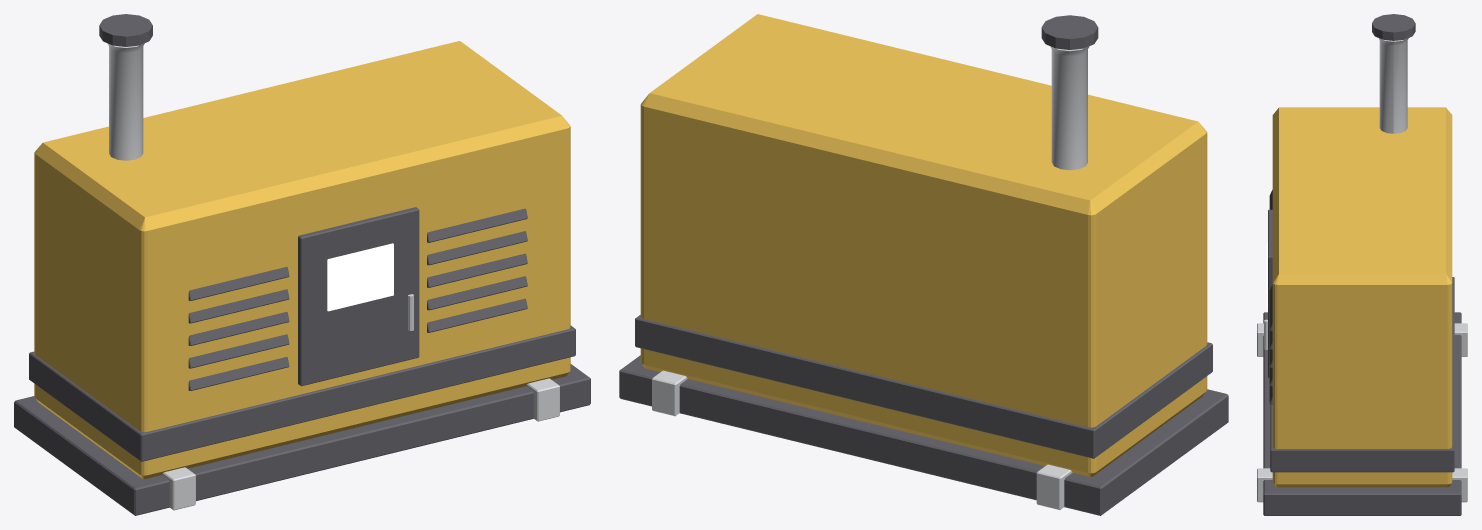
The model's file is motorway-services-and-truck-park-yard-generator-f175fc54__35977.glb.
The picture shows the model from 3 angles, left to right: view 1: azimuth 30°, elevation 25°; view 2: azimuth 150°, elevation 25°; view 3: azimuth 270°, elevation 25°; orthographic projection. The views are drawn at different scales.
Parts seen in each view (by area): view 1: yard-generator; view 2: yard-generator; view 3: yard-generator.
Part boxes in pixels (bbox=[...]): yard-generator: bbox=[14, 14, 590, 515]; yard-generator: bbox=[619, 14, 1228, 515]; yard-generator: bbox=[1257, 14, 1467, 515].
Size of the model in its own units: 2.76 by 2.4 by 1.35.
